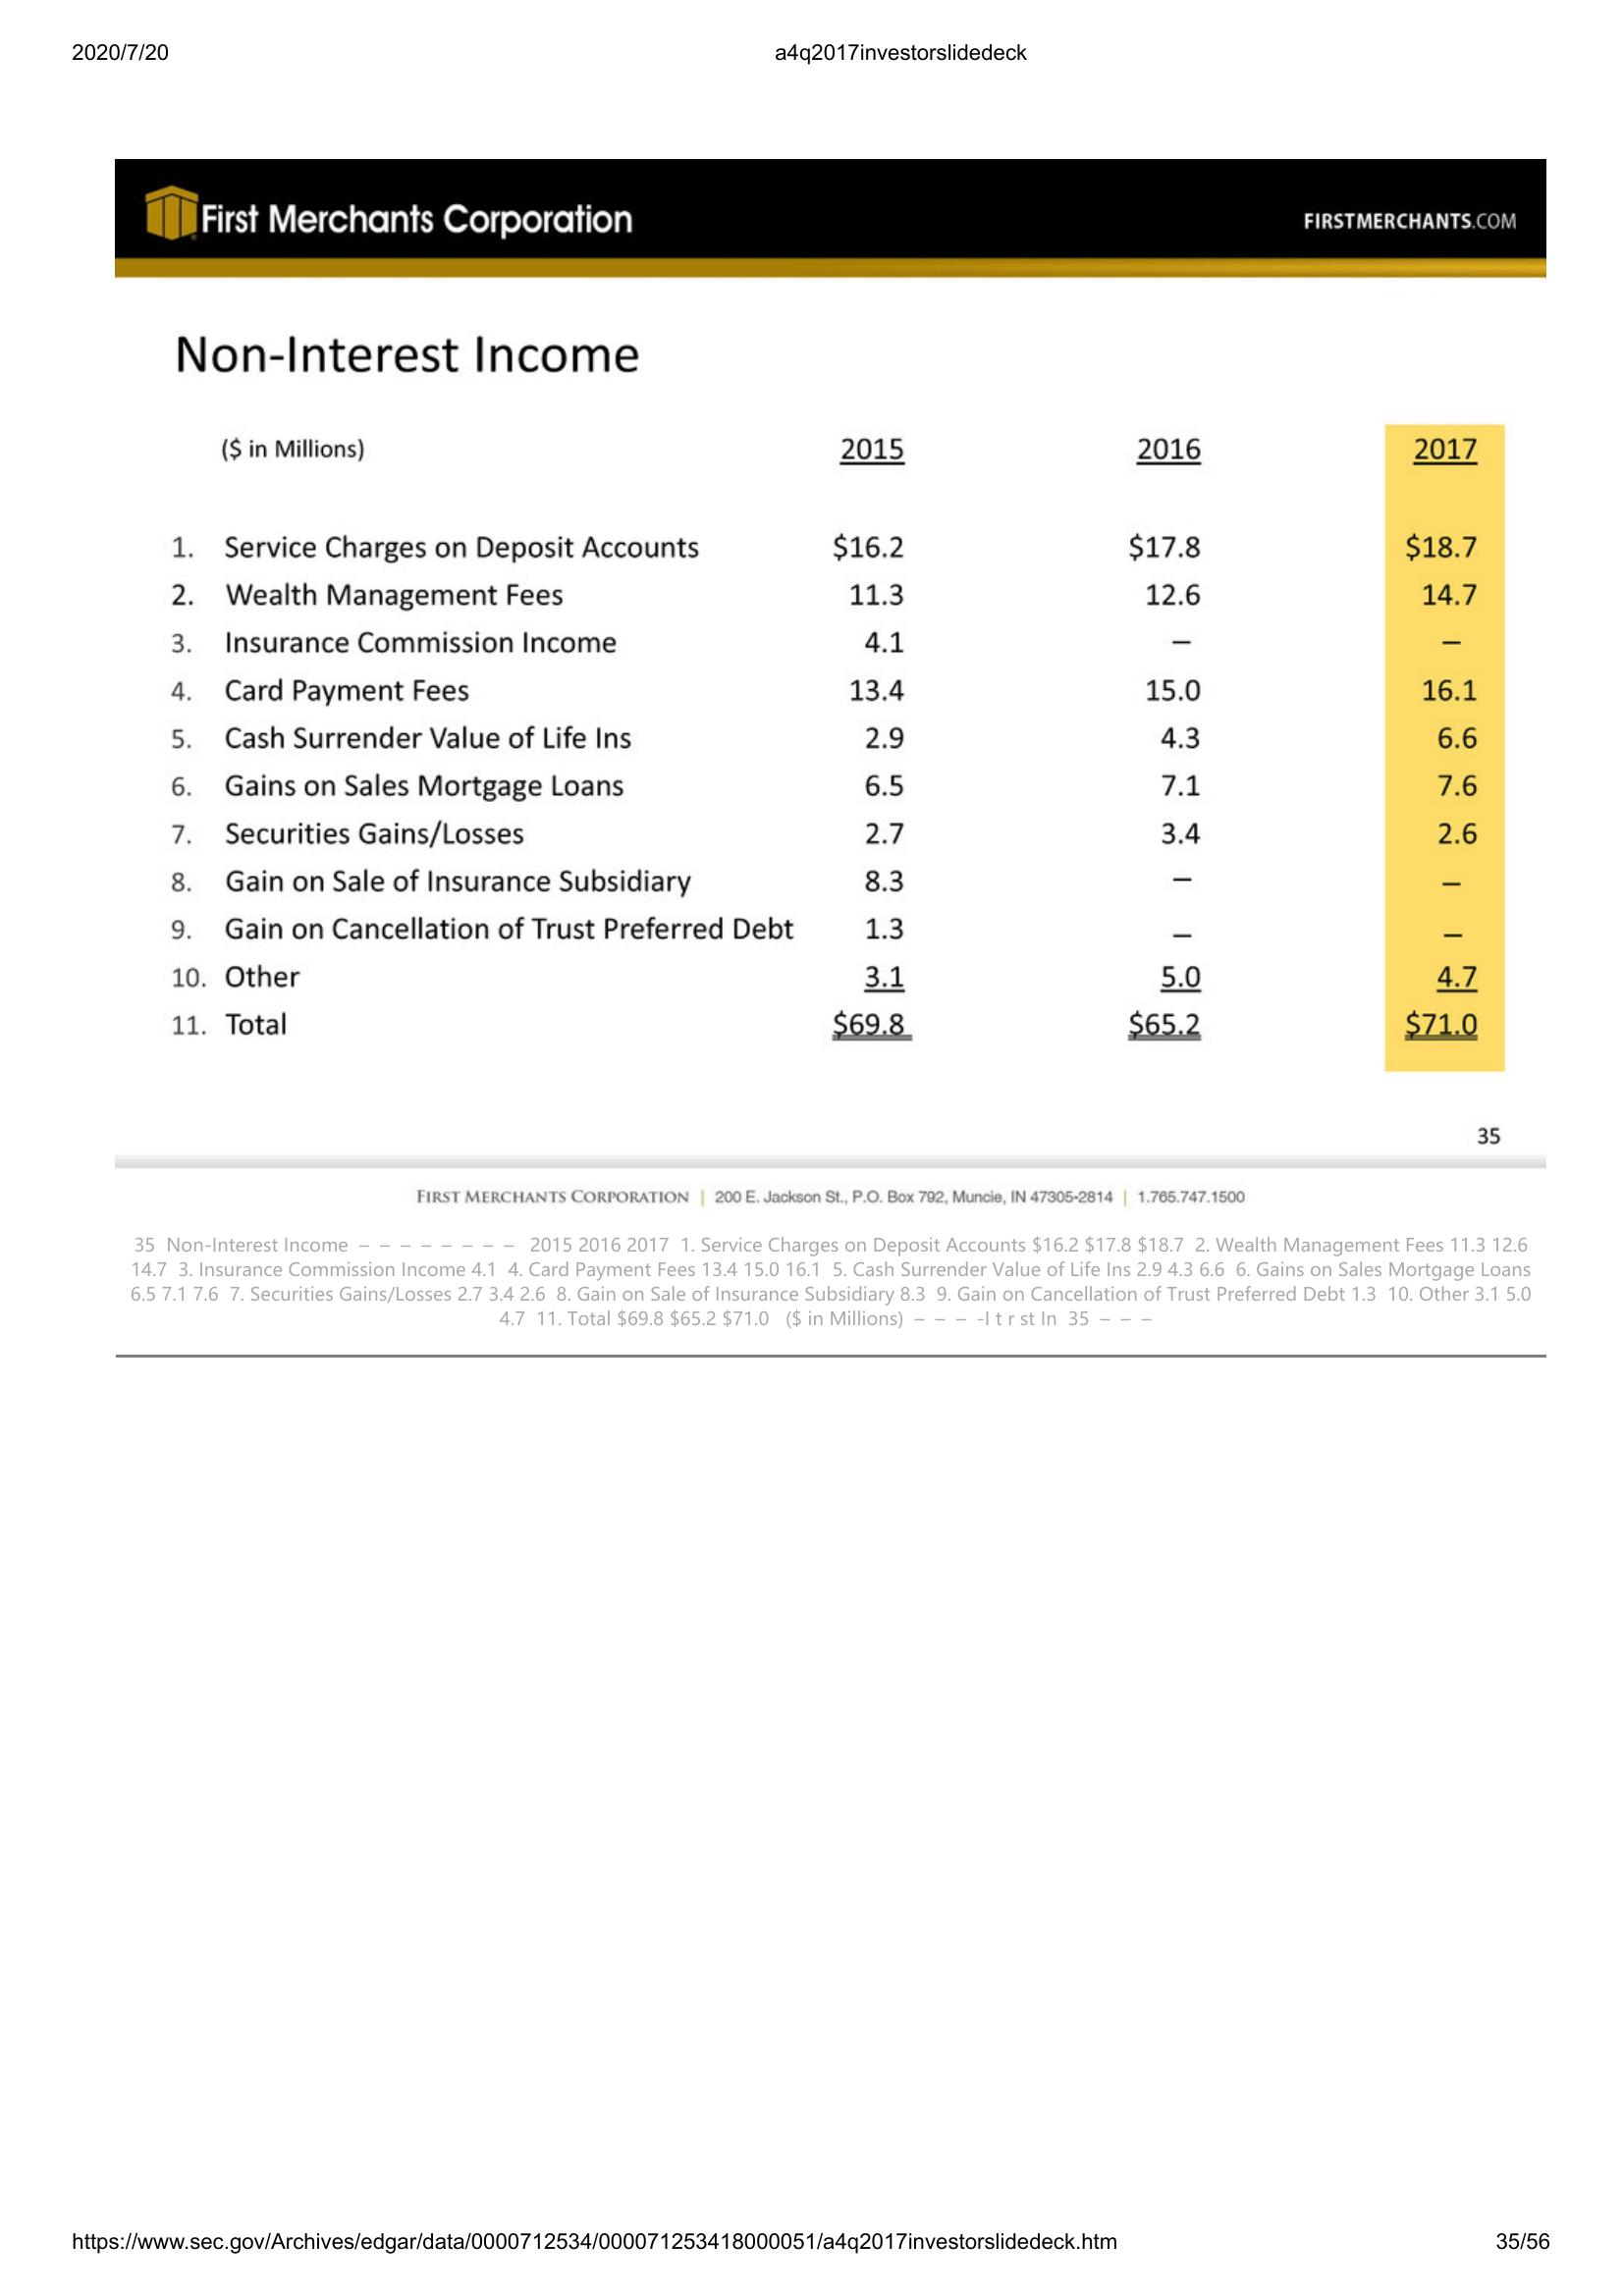table: (160, 418, 1509, 1076)
